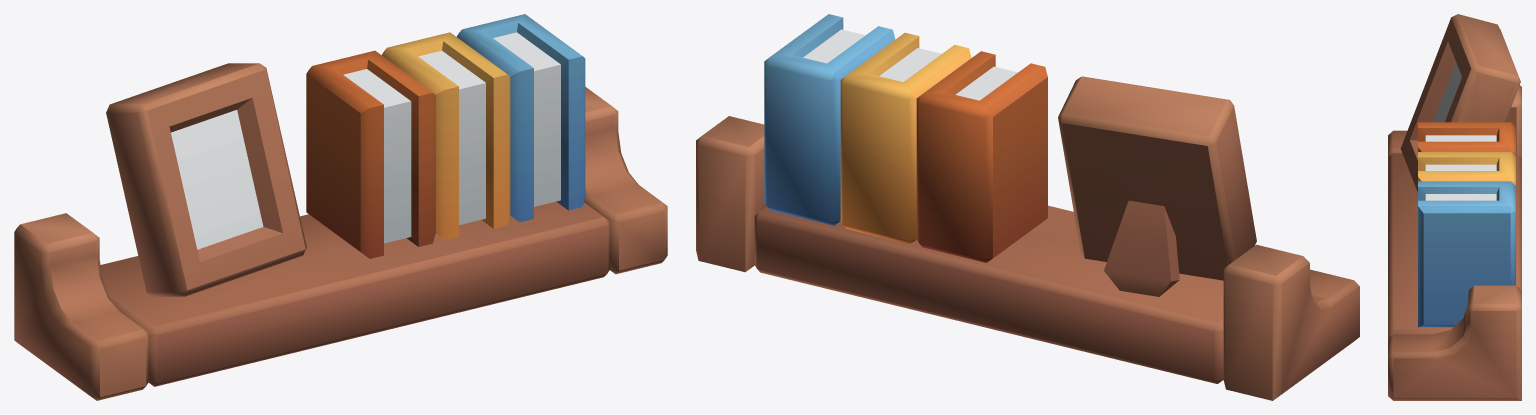
Rendered from shelf_B_large_decorated.glb.
3 views of the same model, side by side, from view 1: azimuth 30°, elevation 25°; view 2: azimuth 150°, elevation 25°; view 3: azimuth 270°, elevation 25° (orthographic). The views are drawn at different scales.
Parts seen in each view (by area): view 1: shelf_B_large_decorated; view 2: shelf_B_large_decorated; view 3: shelf_B_large_decorated.
Part boxes in pixels (x1=…): shelf_B_large_decorated: x1=14, y1=14, x2=667, y2=400; shelf_B_large_decorated: x1=696, y1=14, x2=1359, y2=400; shelf_B_large_decorated: x1=1388, y1=14, x2=1521, y2=400.
Size of the model in its own units: 2 by 0.8175 by 0.5001.
Materials: 1 (1 with a texture image).
